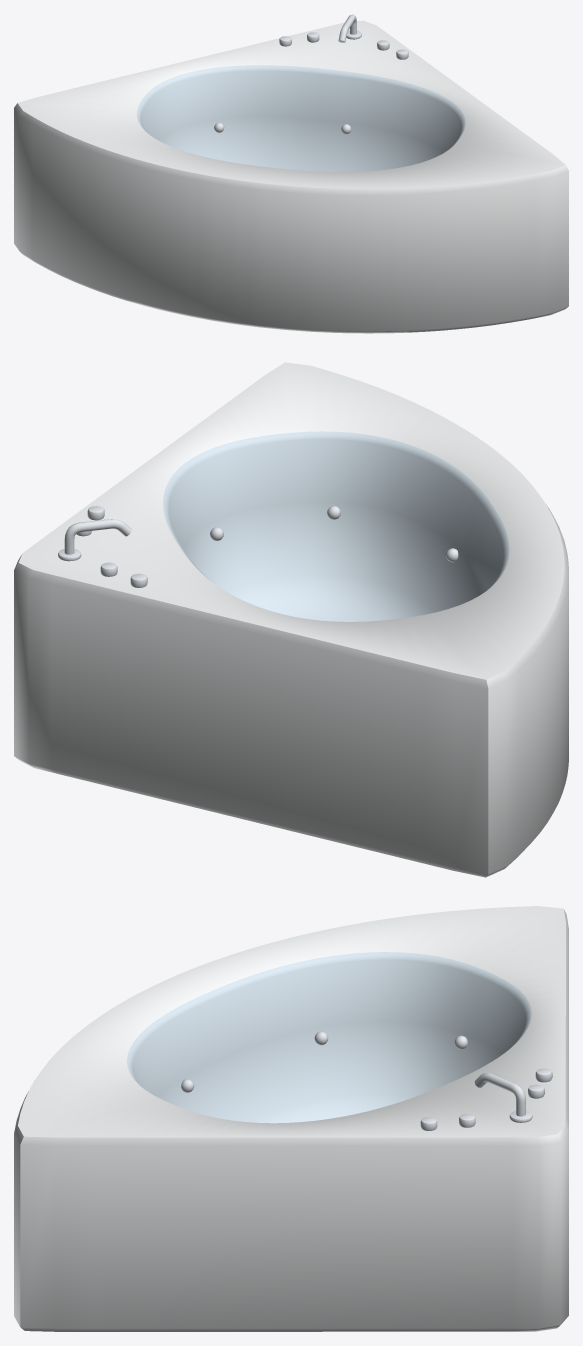
Rendered from banheira_canto_hidro_branca.glb.
3 renders of one model, top to bottom at view 1: azimuth 30°, elevation 25°; view 2: azimuth 150°, elevation 25°; view 3: azimuth 270°, elevation 25°, orthographic. The views are drawn at different scales.
Visible parts, largest first — view 1: banheira_canto_hidro_branca; view 2: banheira_canto_hidro_branca; view 3: banheira_canto_hidro_branca.
Boxes of the visible parts, x1=… form: banheira_canto_hidro_branca: x1=14, y1=14, x2=568, y2=333; banheira_canto_hidro_branca: x1=14, y1=362, x2=568, y2=877; banheira_canto_hidro_branca: x1=14, y1=906, x2=568, y2=1331.
Bounding box in the file's own units: 1.45 × 0.653 × 1.45.
1 material, 1 textured.
